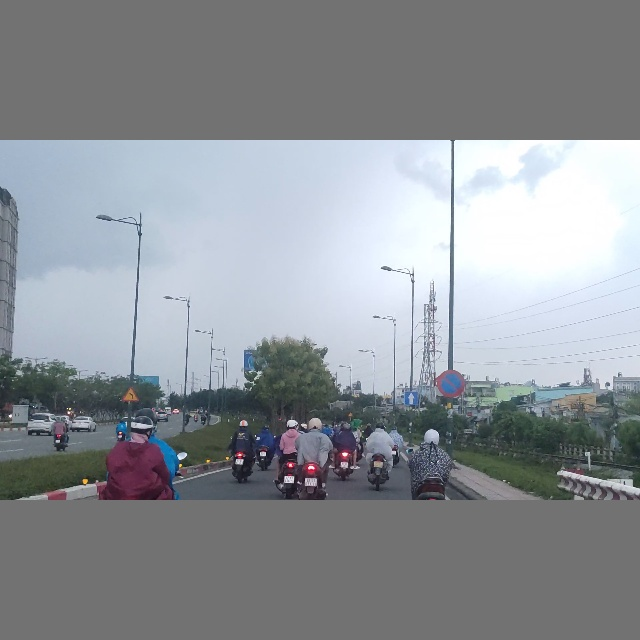I.407a: (404, 391, 418, 405)
P.131a: (437, 371, 465, 397)
W.201a: (123, 387, 139, 402)
